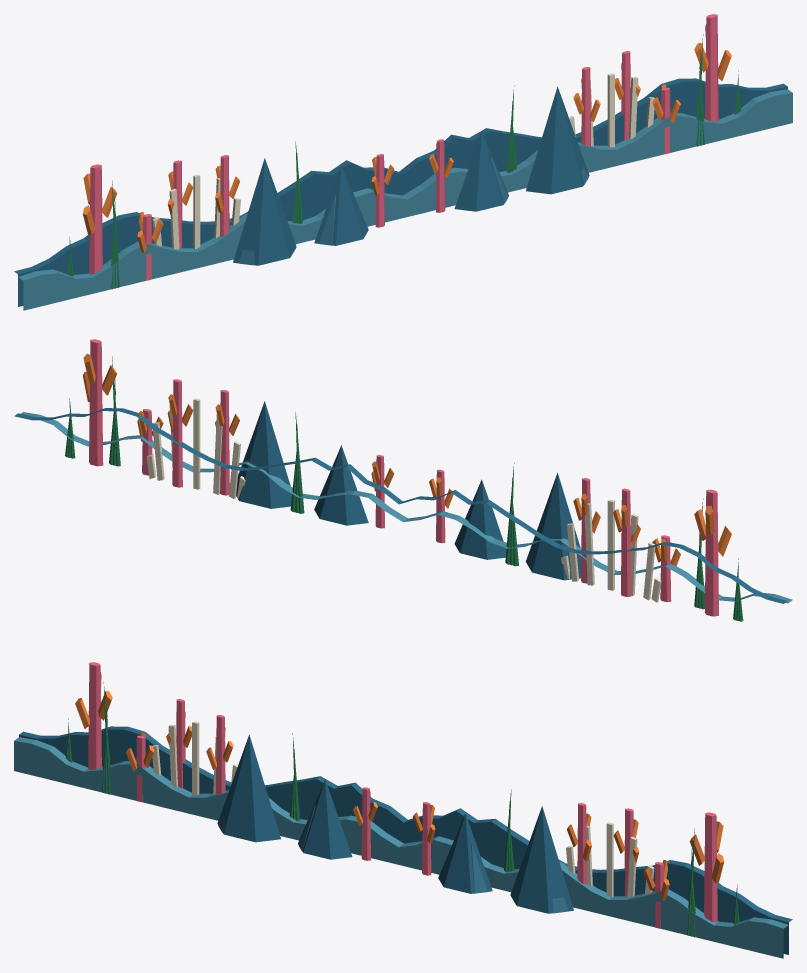
The model's file is backdrop_deepsea.glb.
The picture shows the model from 3 angles, top to bottom: view 1: azimuth 30°, elevation 25°; view 2: azimuth 150°, elevation 25°; view 3: azimuth 330°, elevation 25°; orthographic projection.
Parts seen in each view (by area): view 1: backdrop_deepsea; view 2: backdrop_deepsea; view 3: backdrop_deepsea.
Part boxes in pixels (left/top/right/bottom): backdrop_deepsea: left=14, top=14, right=792, bottom=310; backdrop_deepsea: left=14, top=339, right=792, bottom=621; backdrop_deepsea: left=14, top=662, right=792, bottom=958.
Bounding box in the file's own units: 260 × 40 × 14.
Materials: 1 (1 with a texture image).
